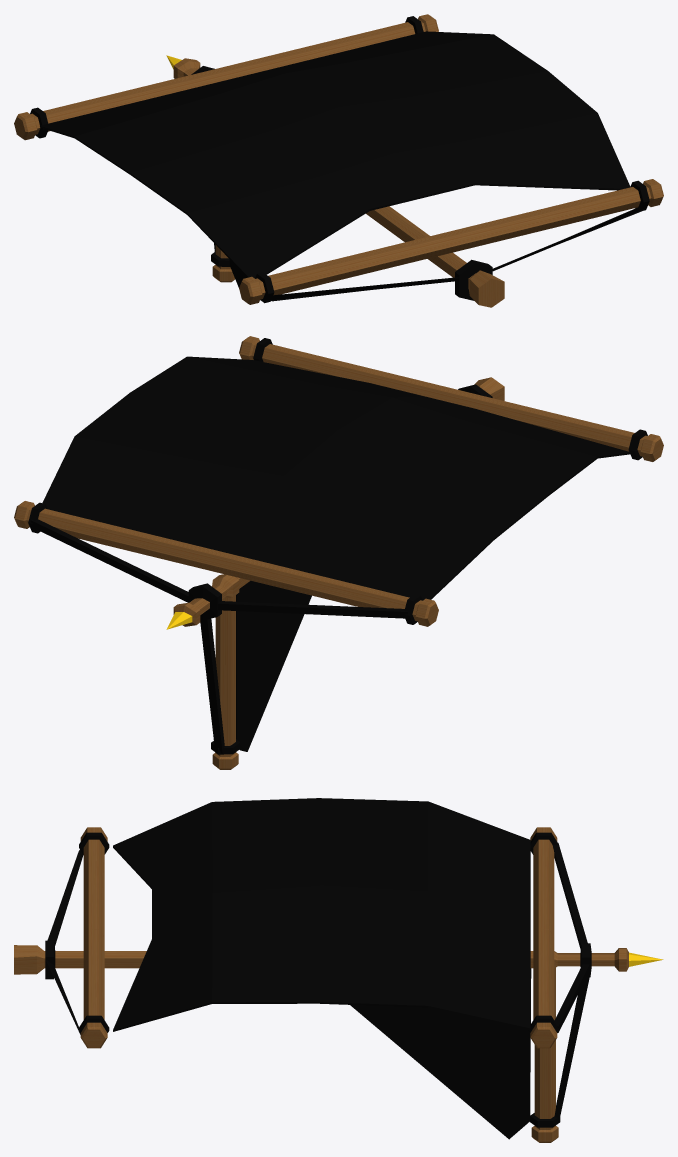
File: sail_c_5.fbx
3 views of the same model, one above another, from view 1: azimuth 30°, elevation 25°; view 2: azimuth 150°, elevation 25°; view 3: azimuth 270°, elevation 25° (orthographic).
Visible parts, largest first — view 1: Cube.105; view 2: Cube.105; view 3: Cube.105.
Boxes of the visible parts, bbox=[...] form: Cube.105: bbox=[14, 14, 663, 307]; Cube.105: bbox=[14, 336, 663, 769]; Cube.105: bbox=[14, 798, 663, 1142].
Size of the model in its own units: 160 by 92.62 by 215.
